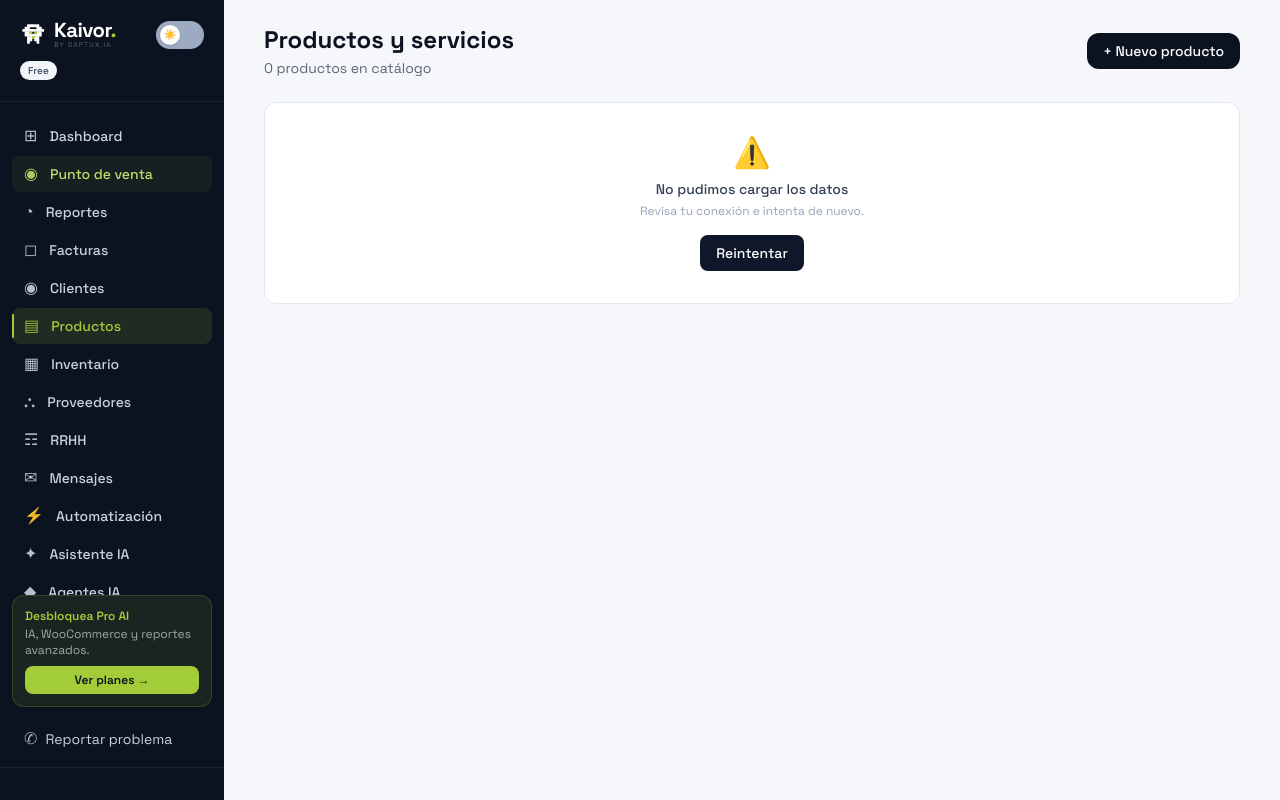
Test case: Productos › abre el formulario de nuevo producto
Click the button "+ Nuevo producto". click: (1164, 51)
box: top-left (1087, 33), bottom-right (1240, 69)
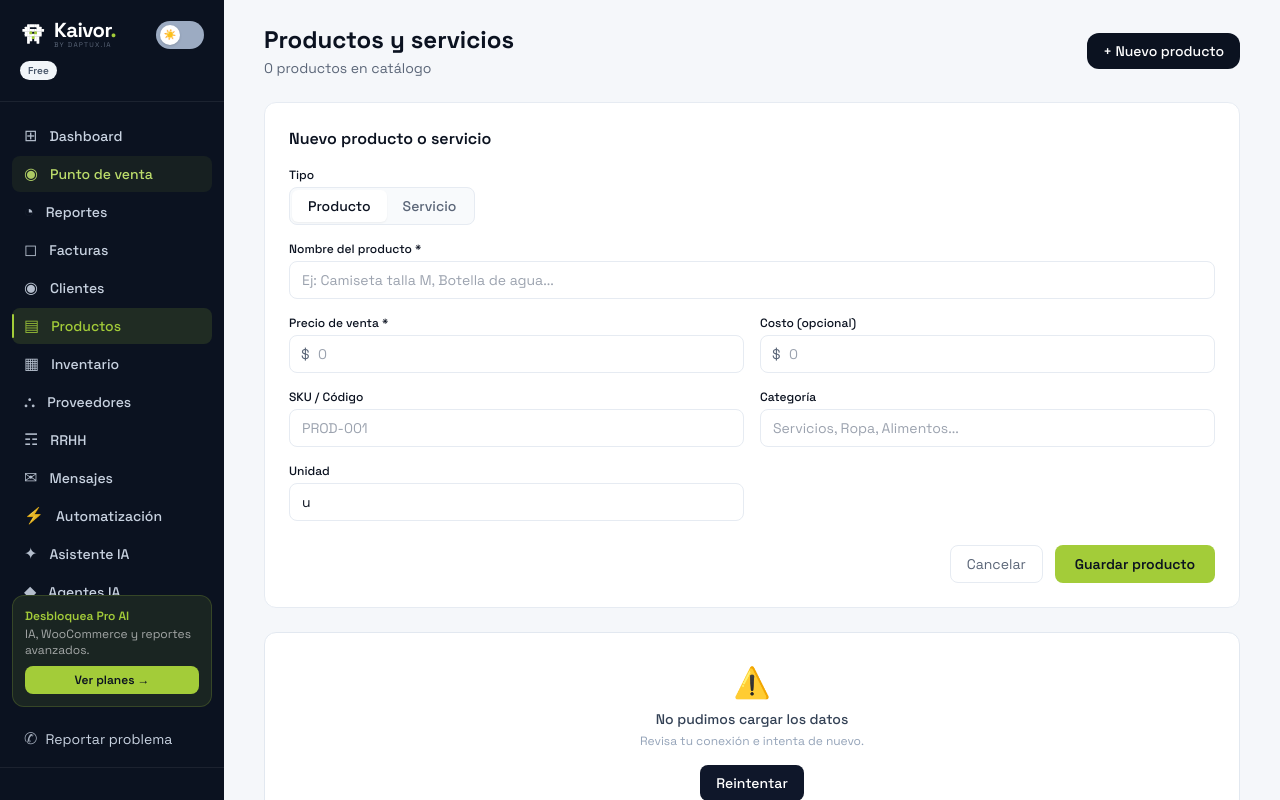
Now the text "Nombre del producto" is shown, box top-left (289, 241), bottom-right (421, 257)
Now the text "Precio de venta" is shown, box top-left (289, 315), bottom-right (388, 331)
